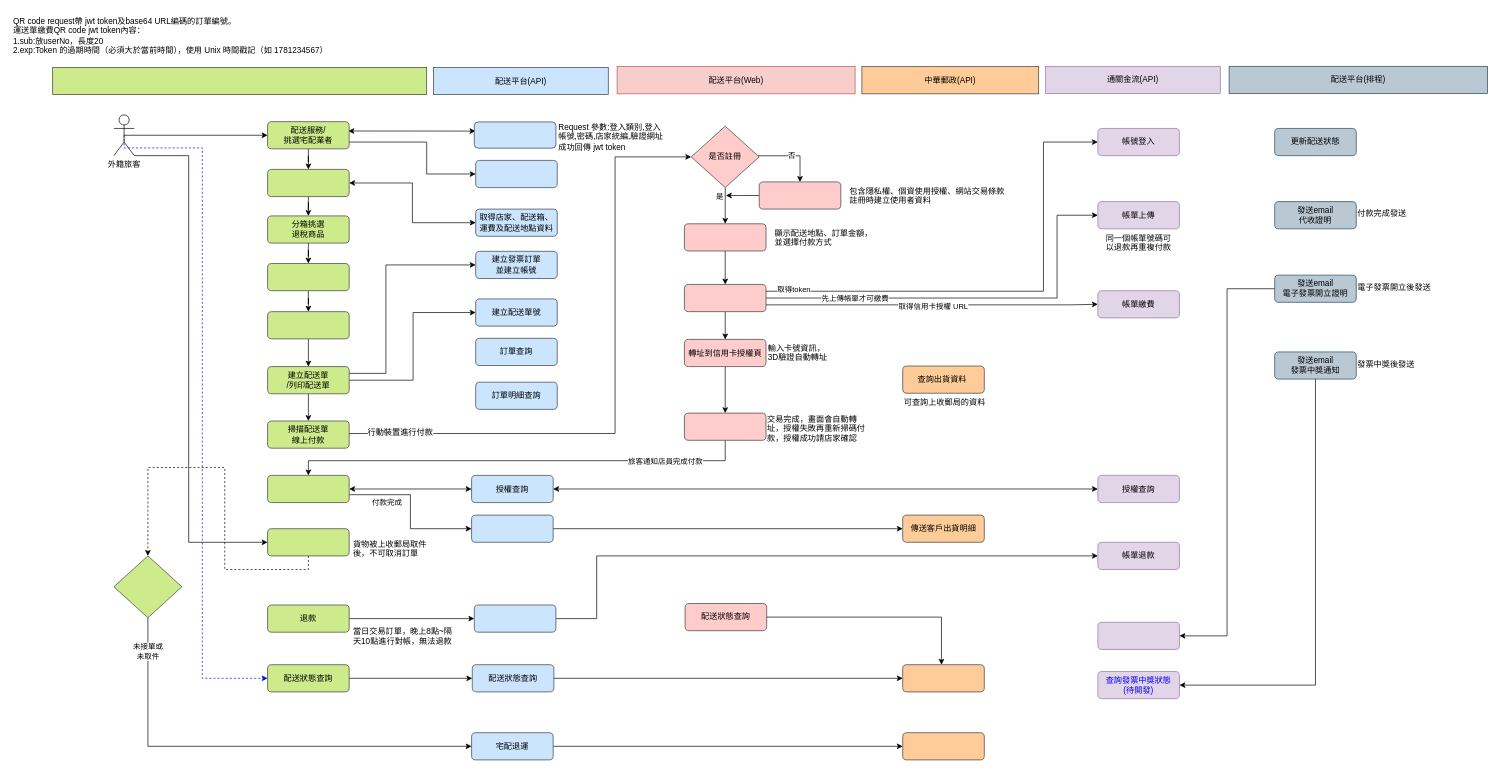
Some shapes in this 1499 by 772 pixel diagram are drawn without their labels. The shapes that lost their labels are listed below. From the top down, each one's centre as x and y in pixels, then its label:
the point at 239,81: e指購(商店端)
the point at 515,134: 身份驗證 取得token
the point at 308,183: 選擇箱型及 數量
the point at 516,174: 取得物流業者資料
the point at 800,195: 註冊email及 同意交易條款
the point at 725,237: 配送地點/訂單金額 選擇付款方式
the point at 308,277: 確認分箱內容 選擇配送地點
the point at 725,298: 信用卡付款轉址等待頁
the point at 308,325: 選擇發票類別/ 建立發票訂單
the point at 725,426: 信用卡授權結果 通知頁
the point at 308,489: 查詢付款狀態/ 預約配送
the point at 308,542: 退運
the point at 512,528: 預約配送
the point at 147,586: 上收取件
the point at 515,618: 發票退款
the point at 1138,635: 查詢發票開立狀態 (待開發)
the point at 943,678: 郵件狀態查詢
the point at 943,746: 取消客戶出貨明細
